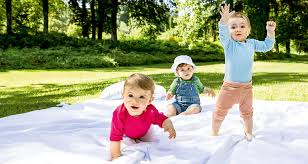child: (209, 5, 277, 145), (107, 68, 178, 158), (169, 46, 211, 117)
